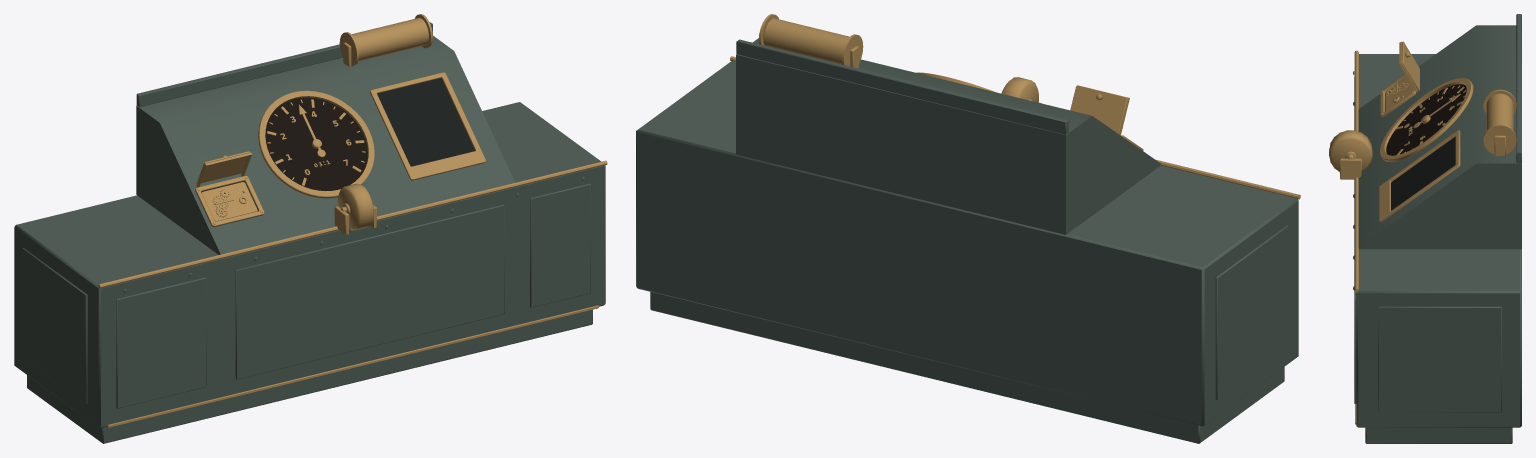
Rendered from master_desk.glb.
3 views of the same model, side by side, from view 1: azimuth 30°, elevation 25°; view 2: azimuth 150°, elevation 25°; view 3: azimuth 270°, elevation 25° (orthographic). The views are drawn at different scales.
Parts seen in each view (by area): view 1: master_desk, chart_paper, IA_chronometer, IA_scrub, chrono_plate; view 2: master_desk, chrono_plate, IA_scrub; view 3: master_desk, chart_paper, IA_scrub, chrono_plate, IA_chronometer.
Part boxes in pixels (left/top/right/bottom): master_desk: left=14, top=14, right=607, bottom=443; chart_paper: left=377, top=78, right=474, bottom=166; IA_chronometer: left=202, top=182, right=257, bottom=221; IA_scrub: left=337, top=183, right=373, bottom=230; chrono_plate: left=196, top=151, right=251, bottom=187; master_desk: left=636, top=14, right=1300, bottom=443; chrono_plate: left=1070, top=85, right=1129, bottom=135; IA_scrub: left=1001, top=77, right=1038, bottom=102; master_desk: left=1340, top=14, right=1521, bottom=443; chart_paper: left=1391, top=136, right=1455, bottom=210; IA_scrub: left=1329, top=130, right=1372, bottom=172; chrono_plate: left=1399, top=41, right=1419, bottom=92; IA_chronometer: left=1385, top=77, right=1411, bottom=110.
Size of the model in its own units: 3.12 by 1.65 by 1.06.
